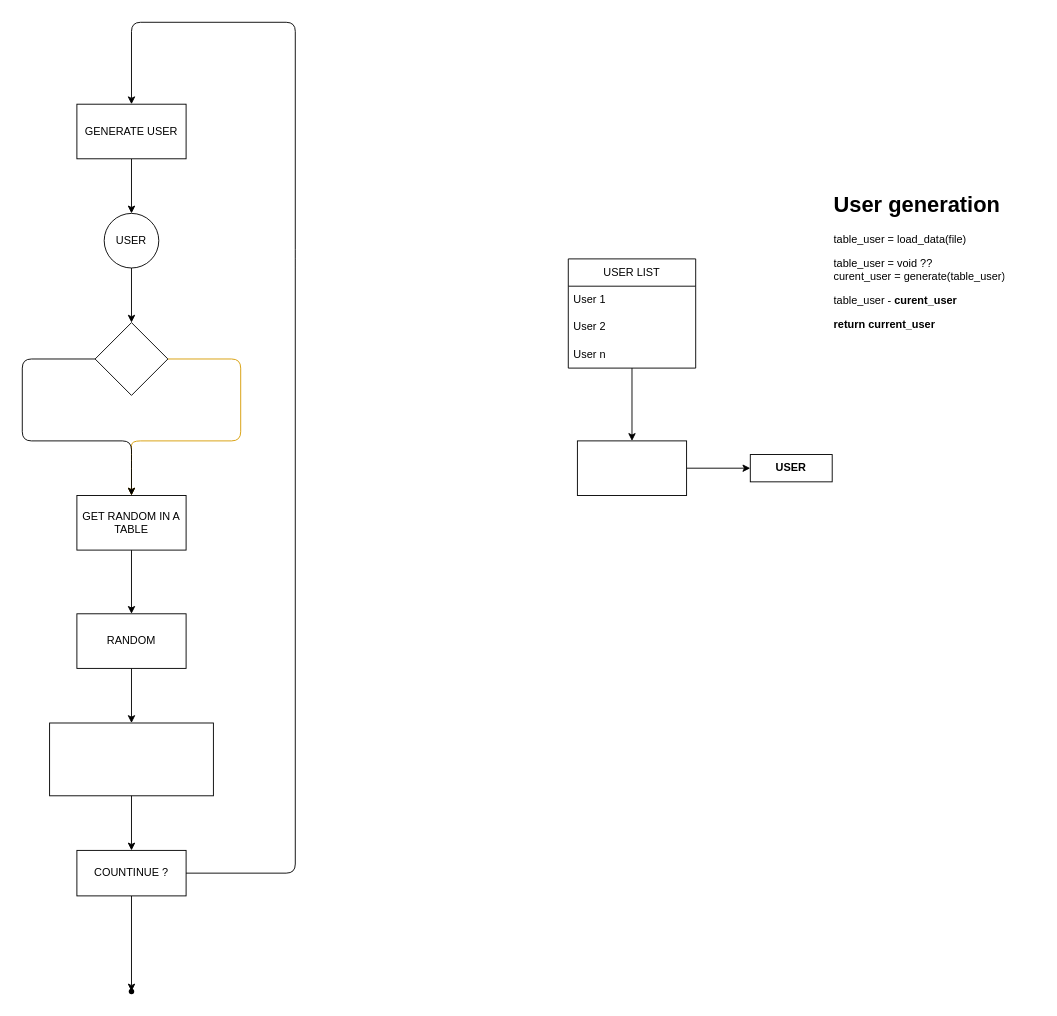
Some shapes in this 1057 by 1016 pixel diagram are drawn without their labels. The shapes that lost their labels are listed below. From the top down, each one's centre as x and y in pixels, then its label:
At [131,358]: "TRUTH OR DEAR".
At [631,467]: "GENERATION".
At [131,759]: "USER k truth or dear".
